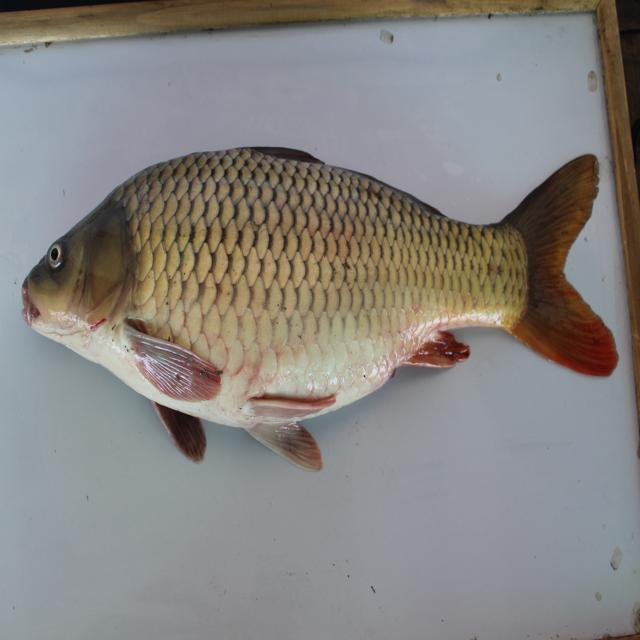CommonCarp: (14, 134, 624, 486)
